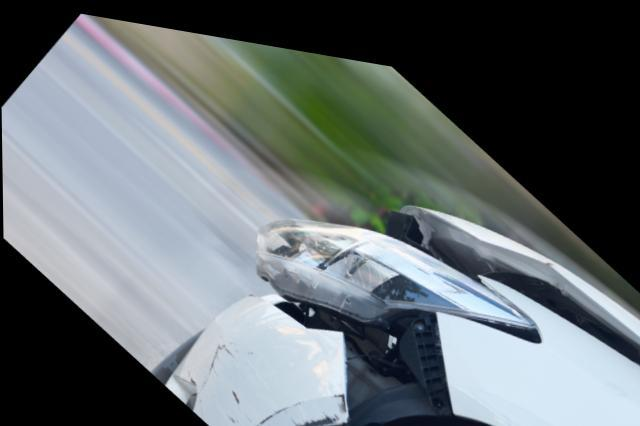dislocated part: (148, 286, 450, 426), (381, 190, 640, 347)
scratch: (187, 331, 342, 426)
